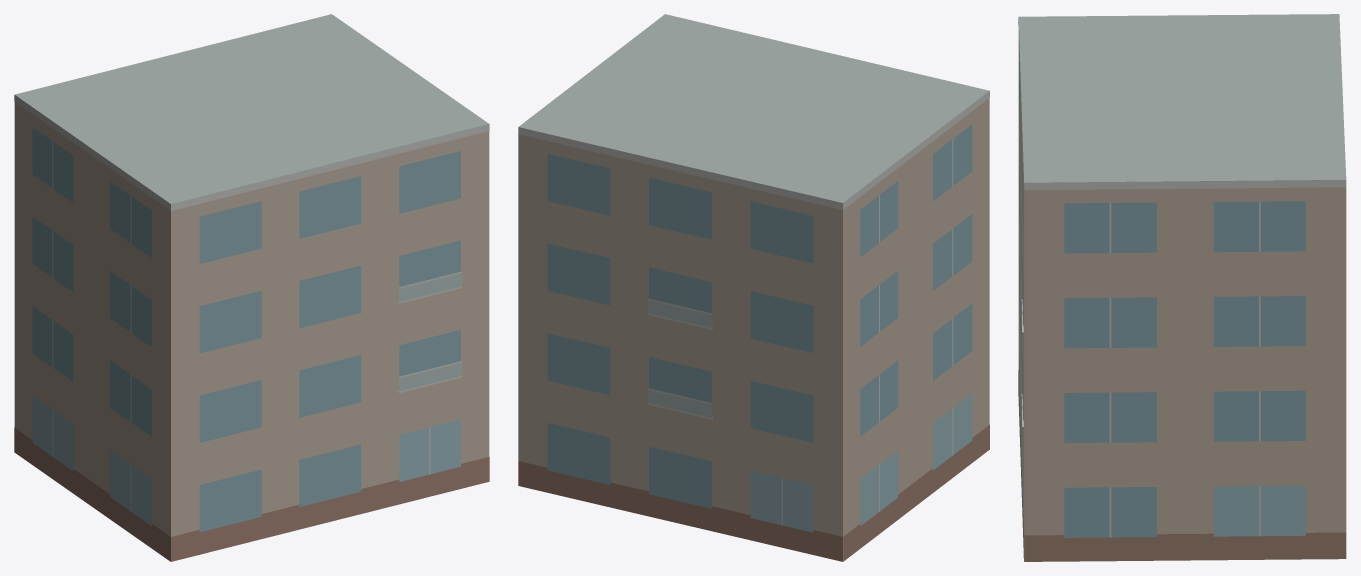
The model's file is survey-upis-32649951.glb.
The picture shows the model from 3 angles, left to right: view 1: azimuth 30°, elevation 25°; view 2: azimuth 150°, elevation 25°; view 3: azimuth 270°, elevation 25°; orthographic projection. The views are drawn at different scales.
Visible parts, largest first — view 1: survey-upis-32649951.tmp; view 2: survey-upis-32649951.tmp; view 3: survey-upis-32649951.tmp.
Boxes of the visible parts, bbox=[...] form: survey-upis-32649951.tmp: bbox=[14, 14, 489, 561]; survey-upis-32649951.tmp: bbox=[518, 14, 989, 561]; survey-upis-32649951.tmp: bbox=[1018, 14, 1346, 561].
Bounding box in the file's own units: 11.84 × 12.4 × 9.72.
